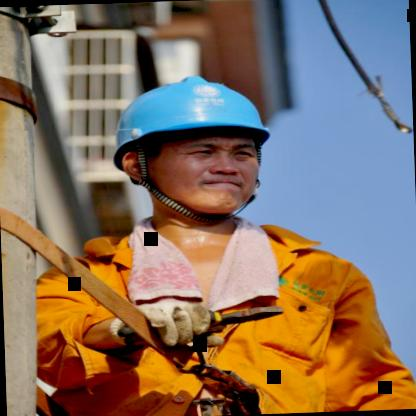helmet: (92, 60, 288, 227)
